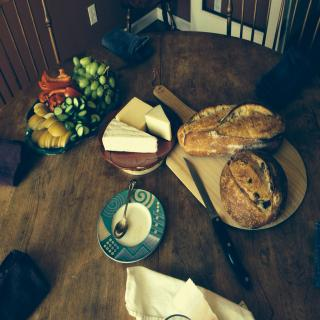Bread: (178, 102, 286, 160), (222, 148, 289, 226)
Cheese: (101, 117, 159, 155), (115, 94, 154, 130), (143, 103, 173, 142)
